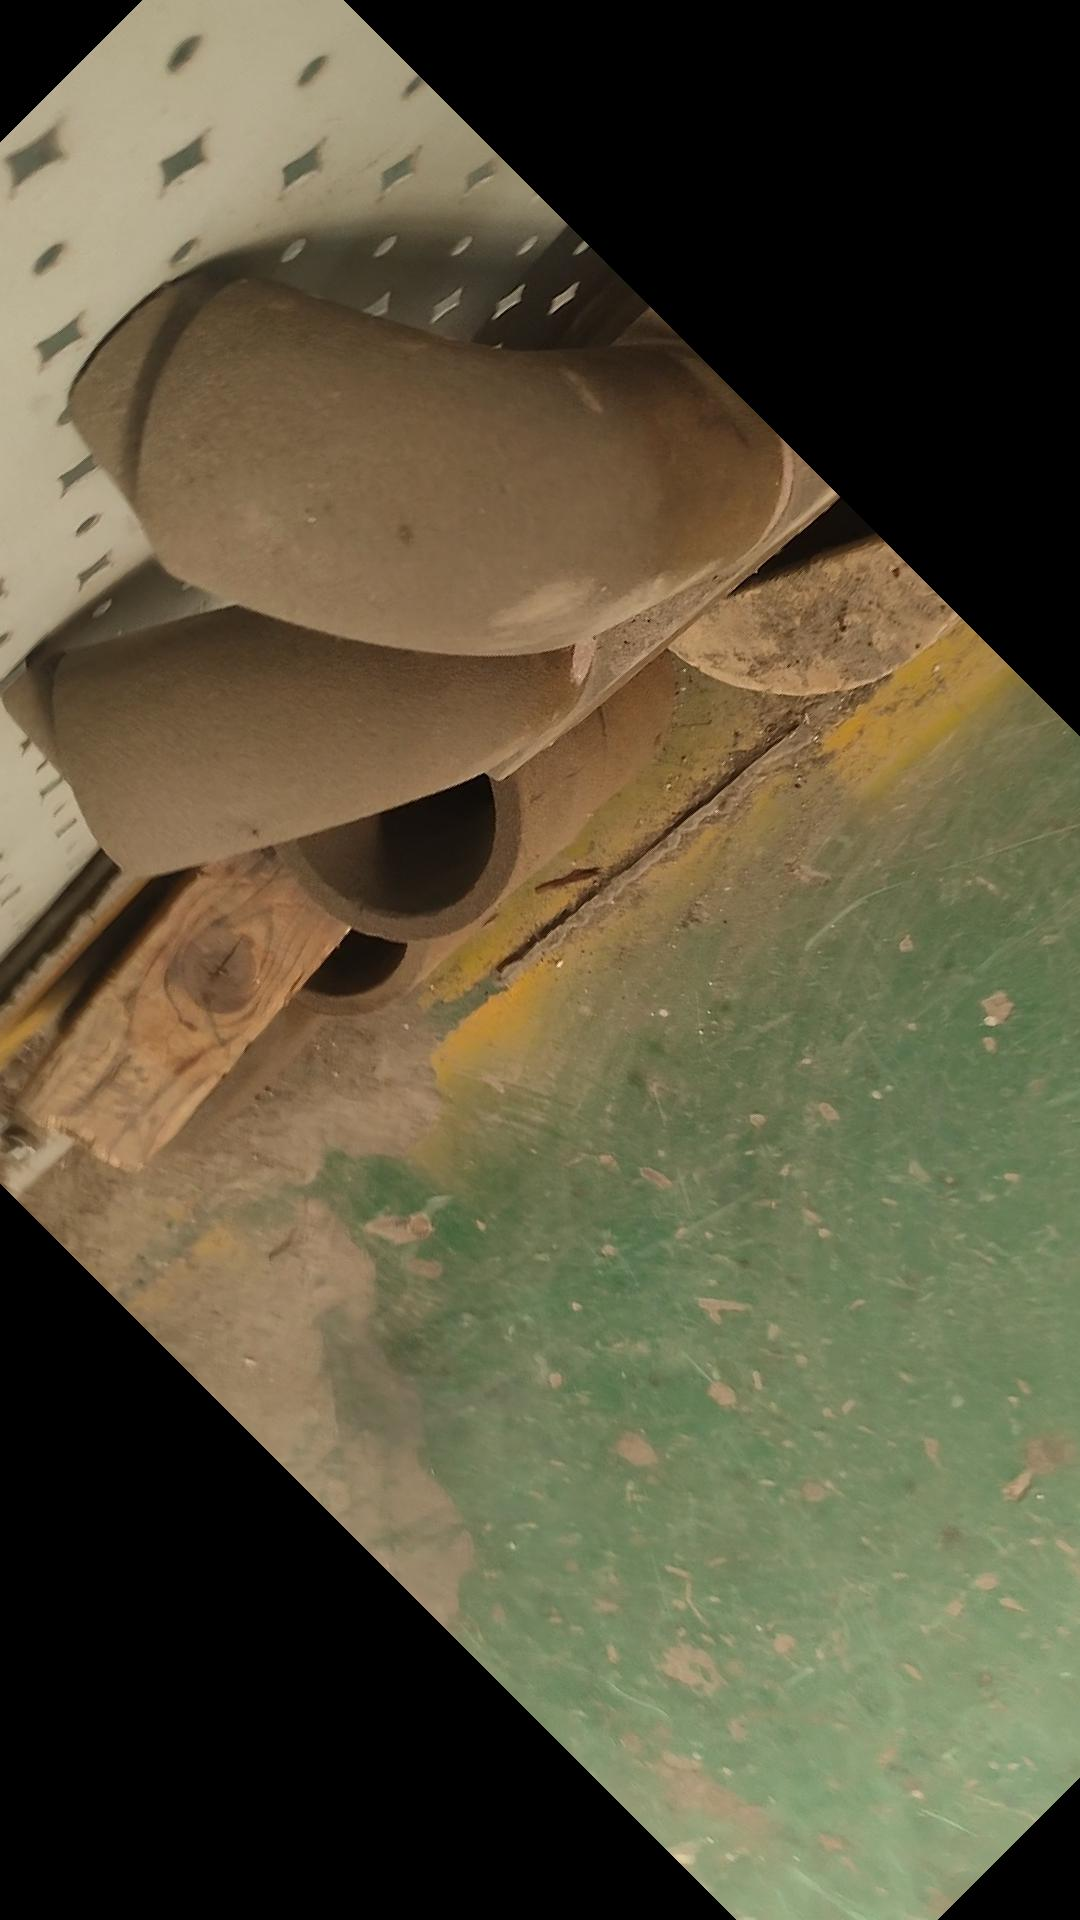pouring hole: (295, 762, 495, 919), (255, 861, 407, 992)
